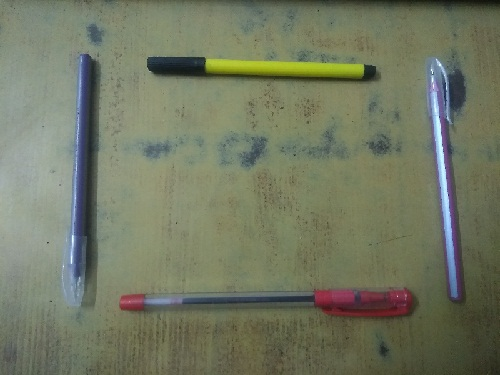pen: (418, 52, 472, 304), (116, 280, 415, 319), (57, 51, 100, 314), (141, 51, 382, 84)
